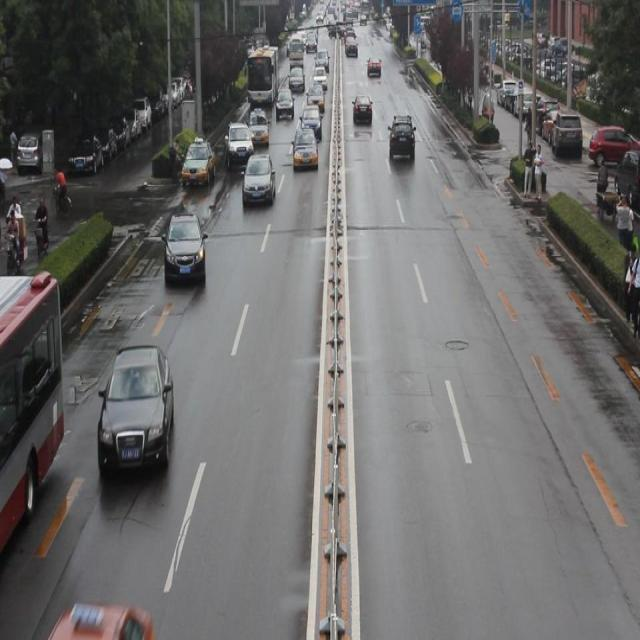car: (97, 344, 173, 466), (162, 213, 207, 284), (241, 153, 276, 204), (183, 134, 216, 184), (388, 113, 416, 160), (227, 121, 254, 163), (291, 131, 318, 168), (299, 107, 322, 140), (249, 109, 269, 145), (276, 89, 294, 120), (352, 96, 372, 123)
van: (1, 275, 66, 550)
